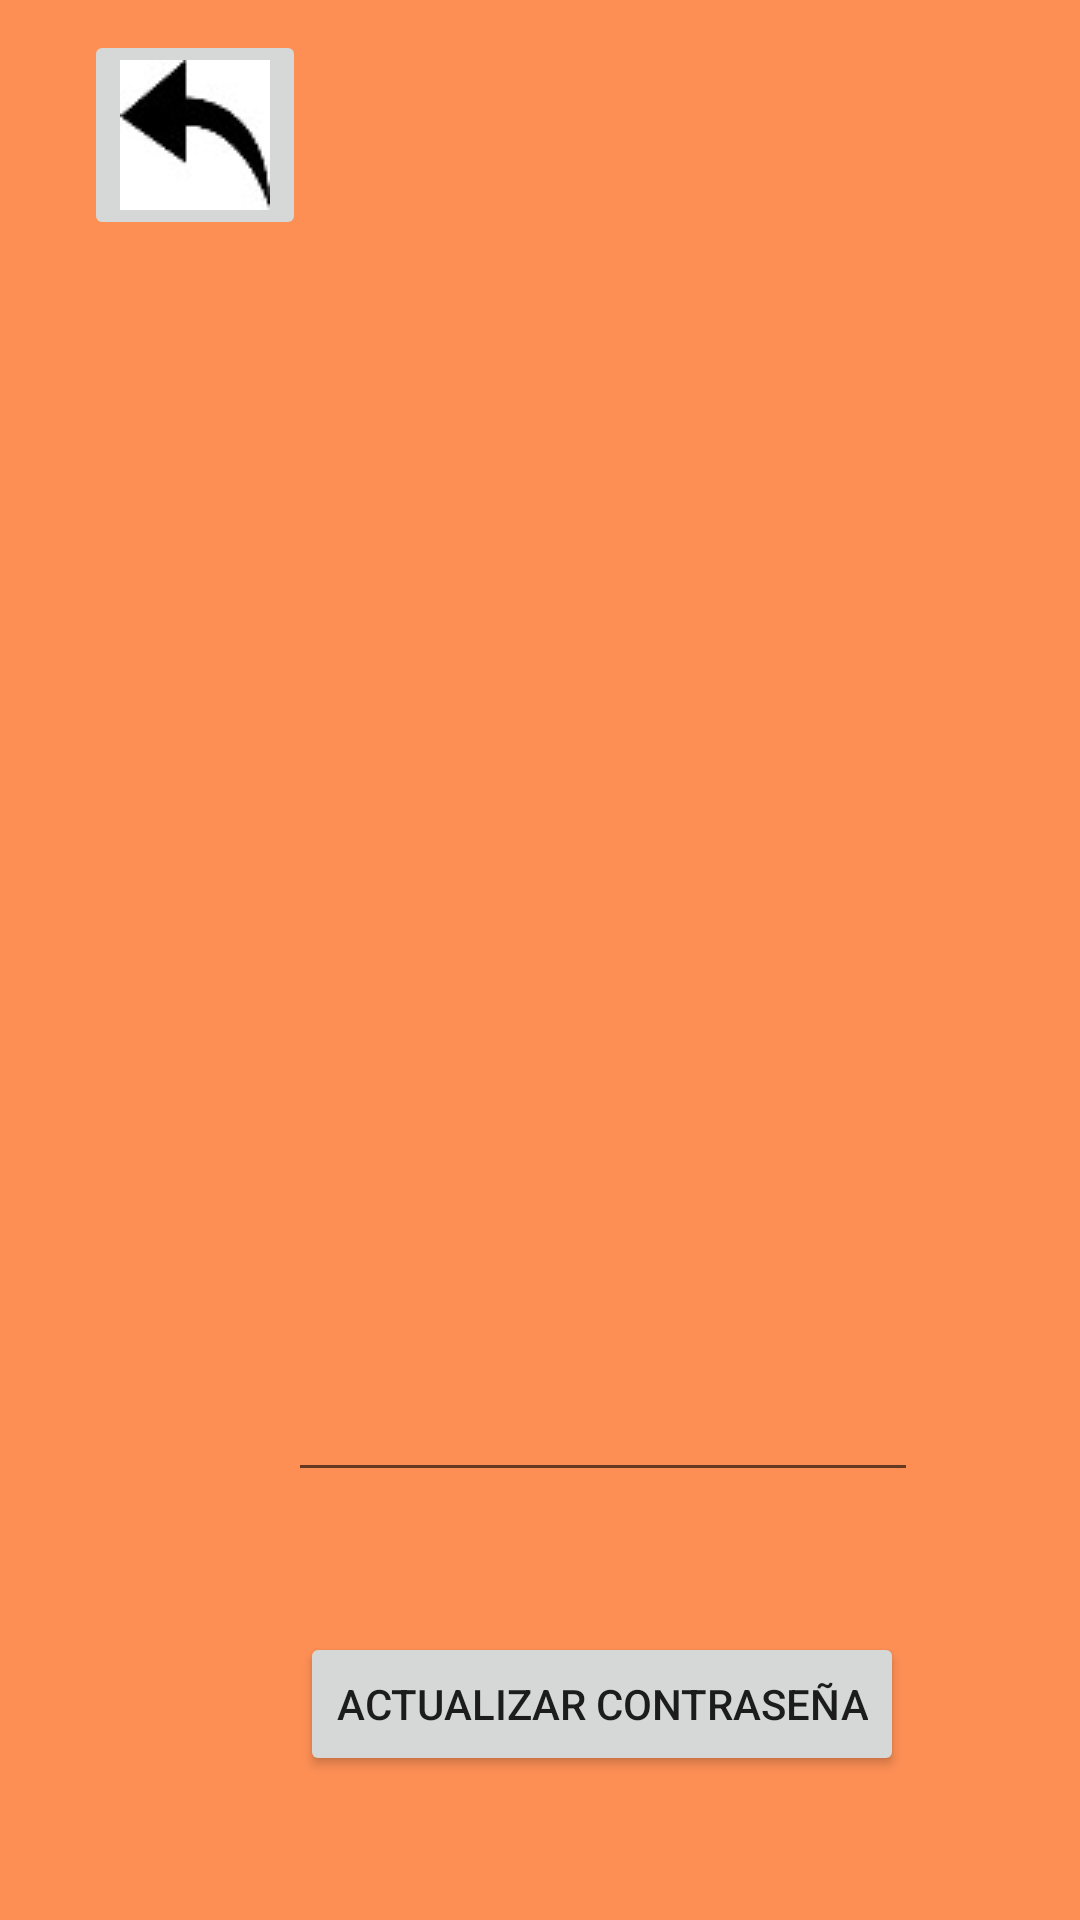

Screen size 1080×1920. Icon name, then its center in pixels as [x,y]:
volver: [195,135]
